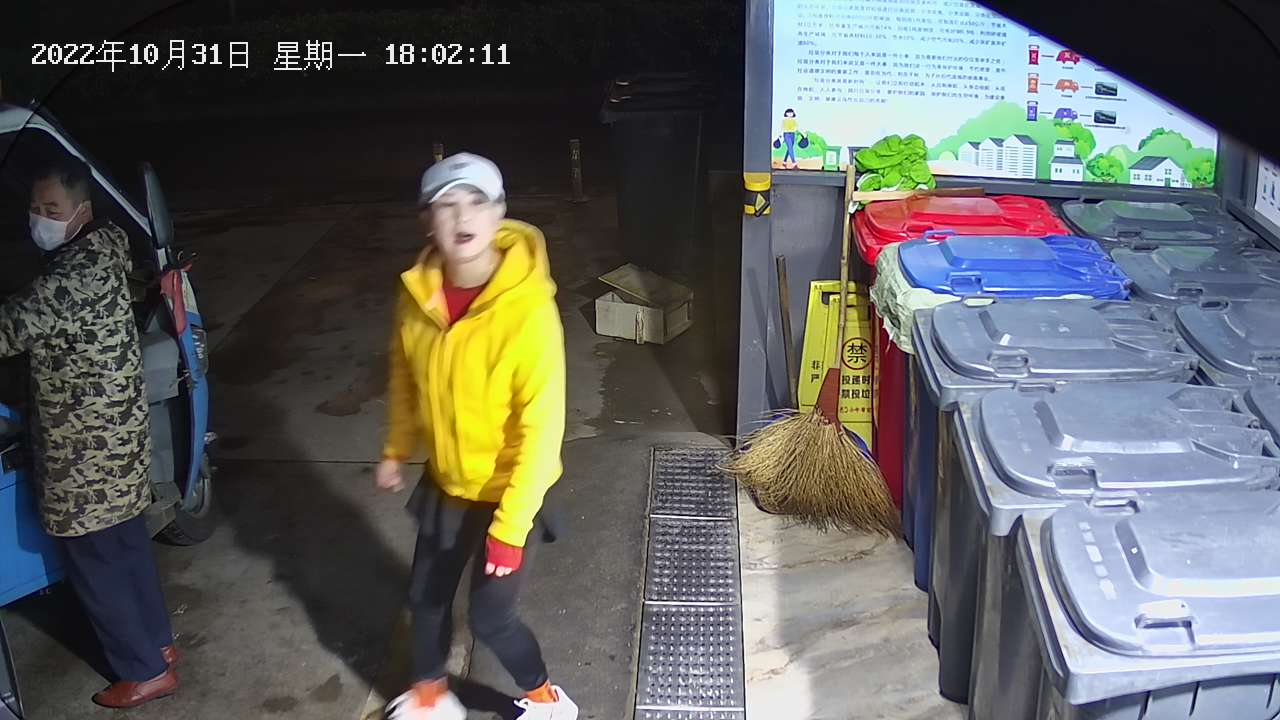person: (374, 149, 580, 720), (1, 157, 184, 711)
